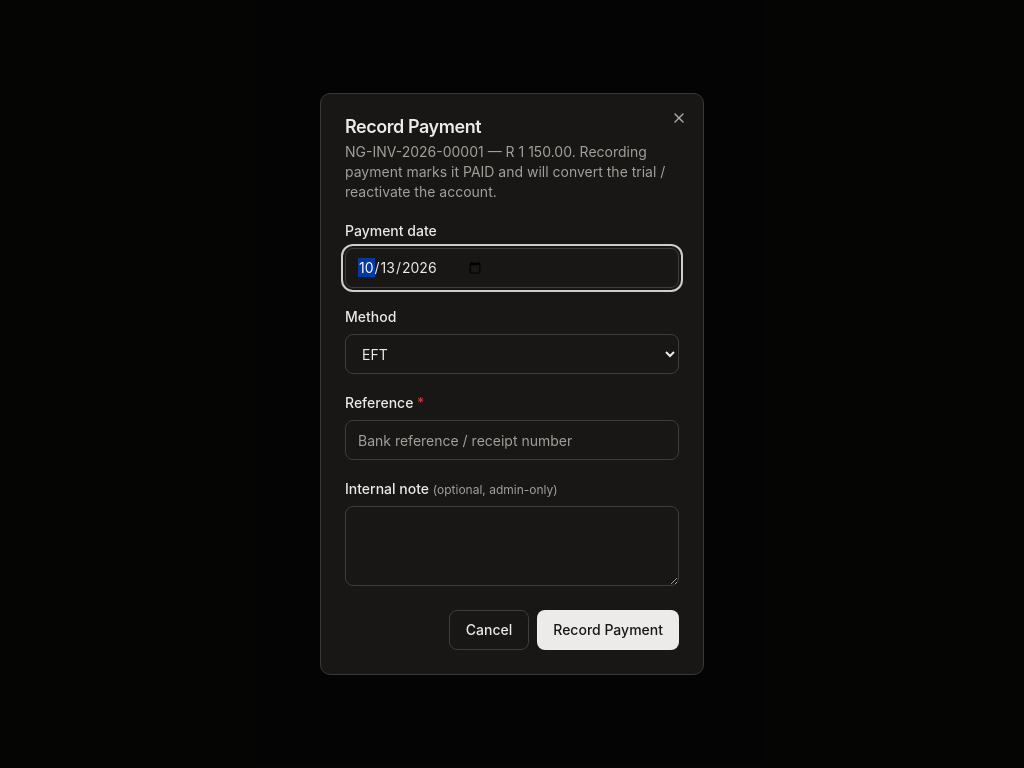
Test case: RecordPaymentDialog › requires a reference for an EFT payment
This screenshot has width=1024, height=768.
Click the button "Record Payment" at (608, 630), box [537,610,679,650]
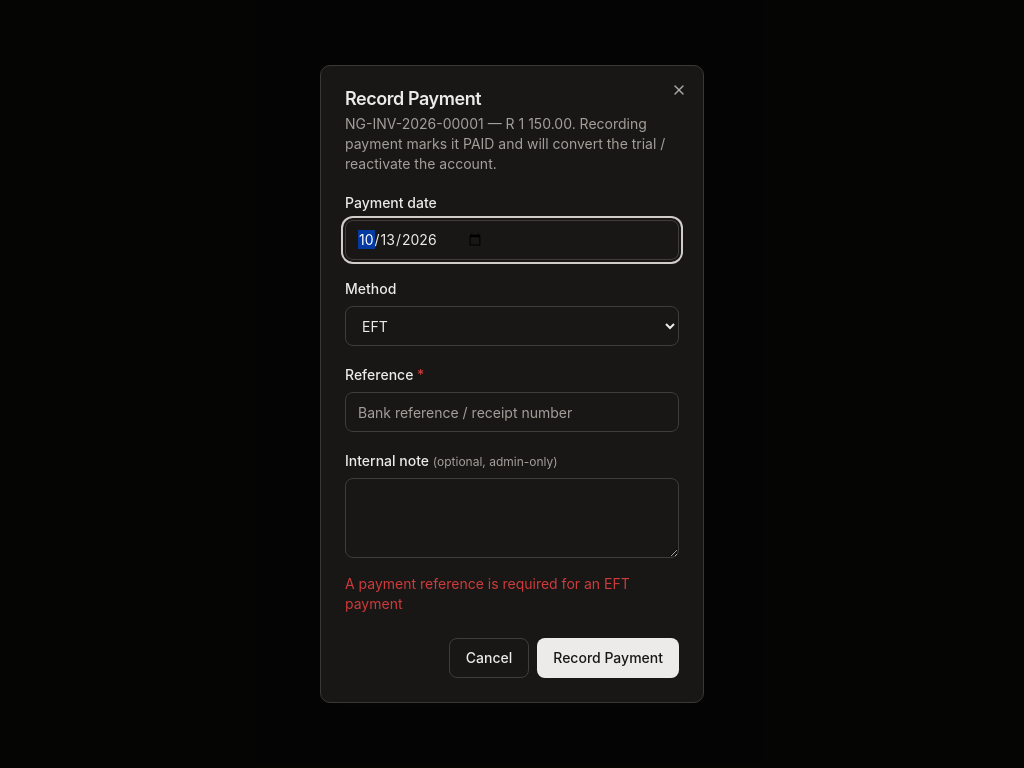
Now the text "A payment reference is required for an EFT payment" is shown, box [345,574,679,614]
